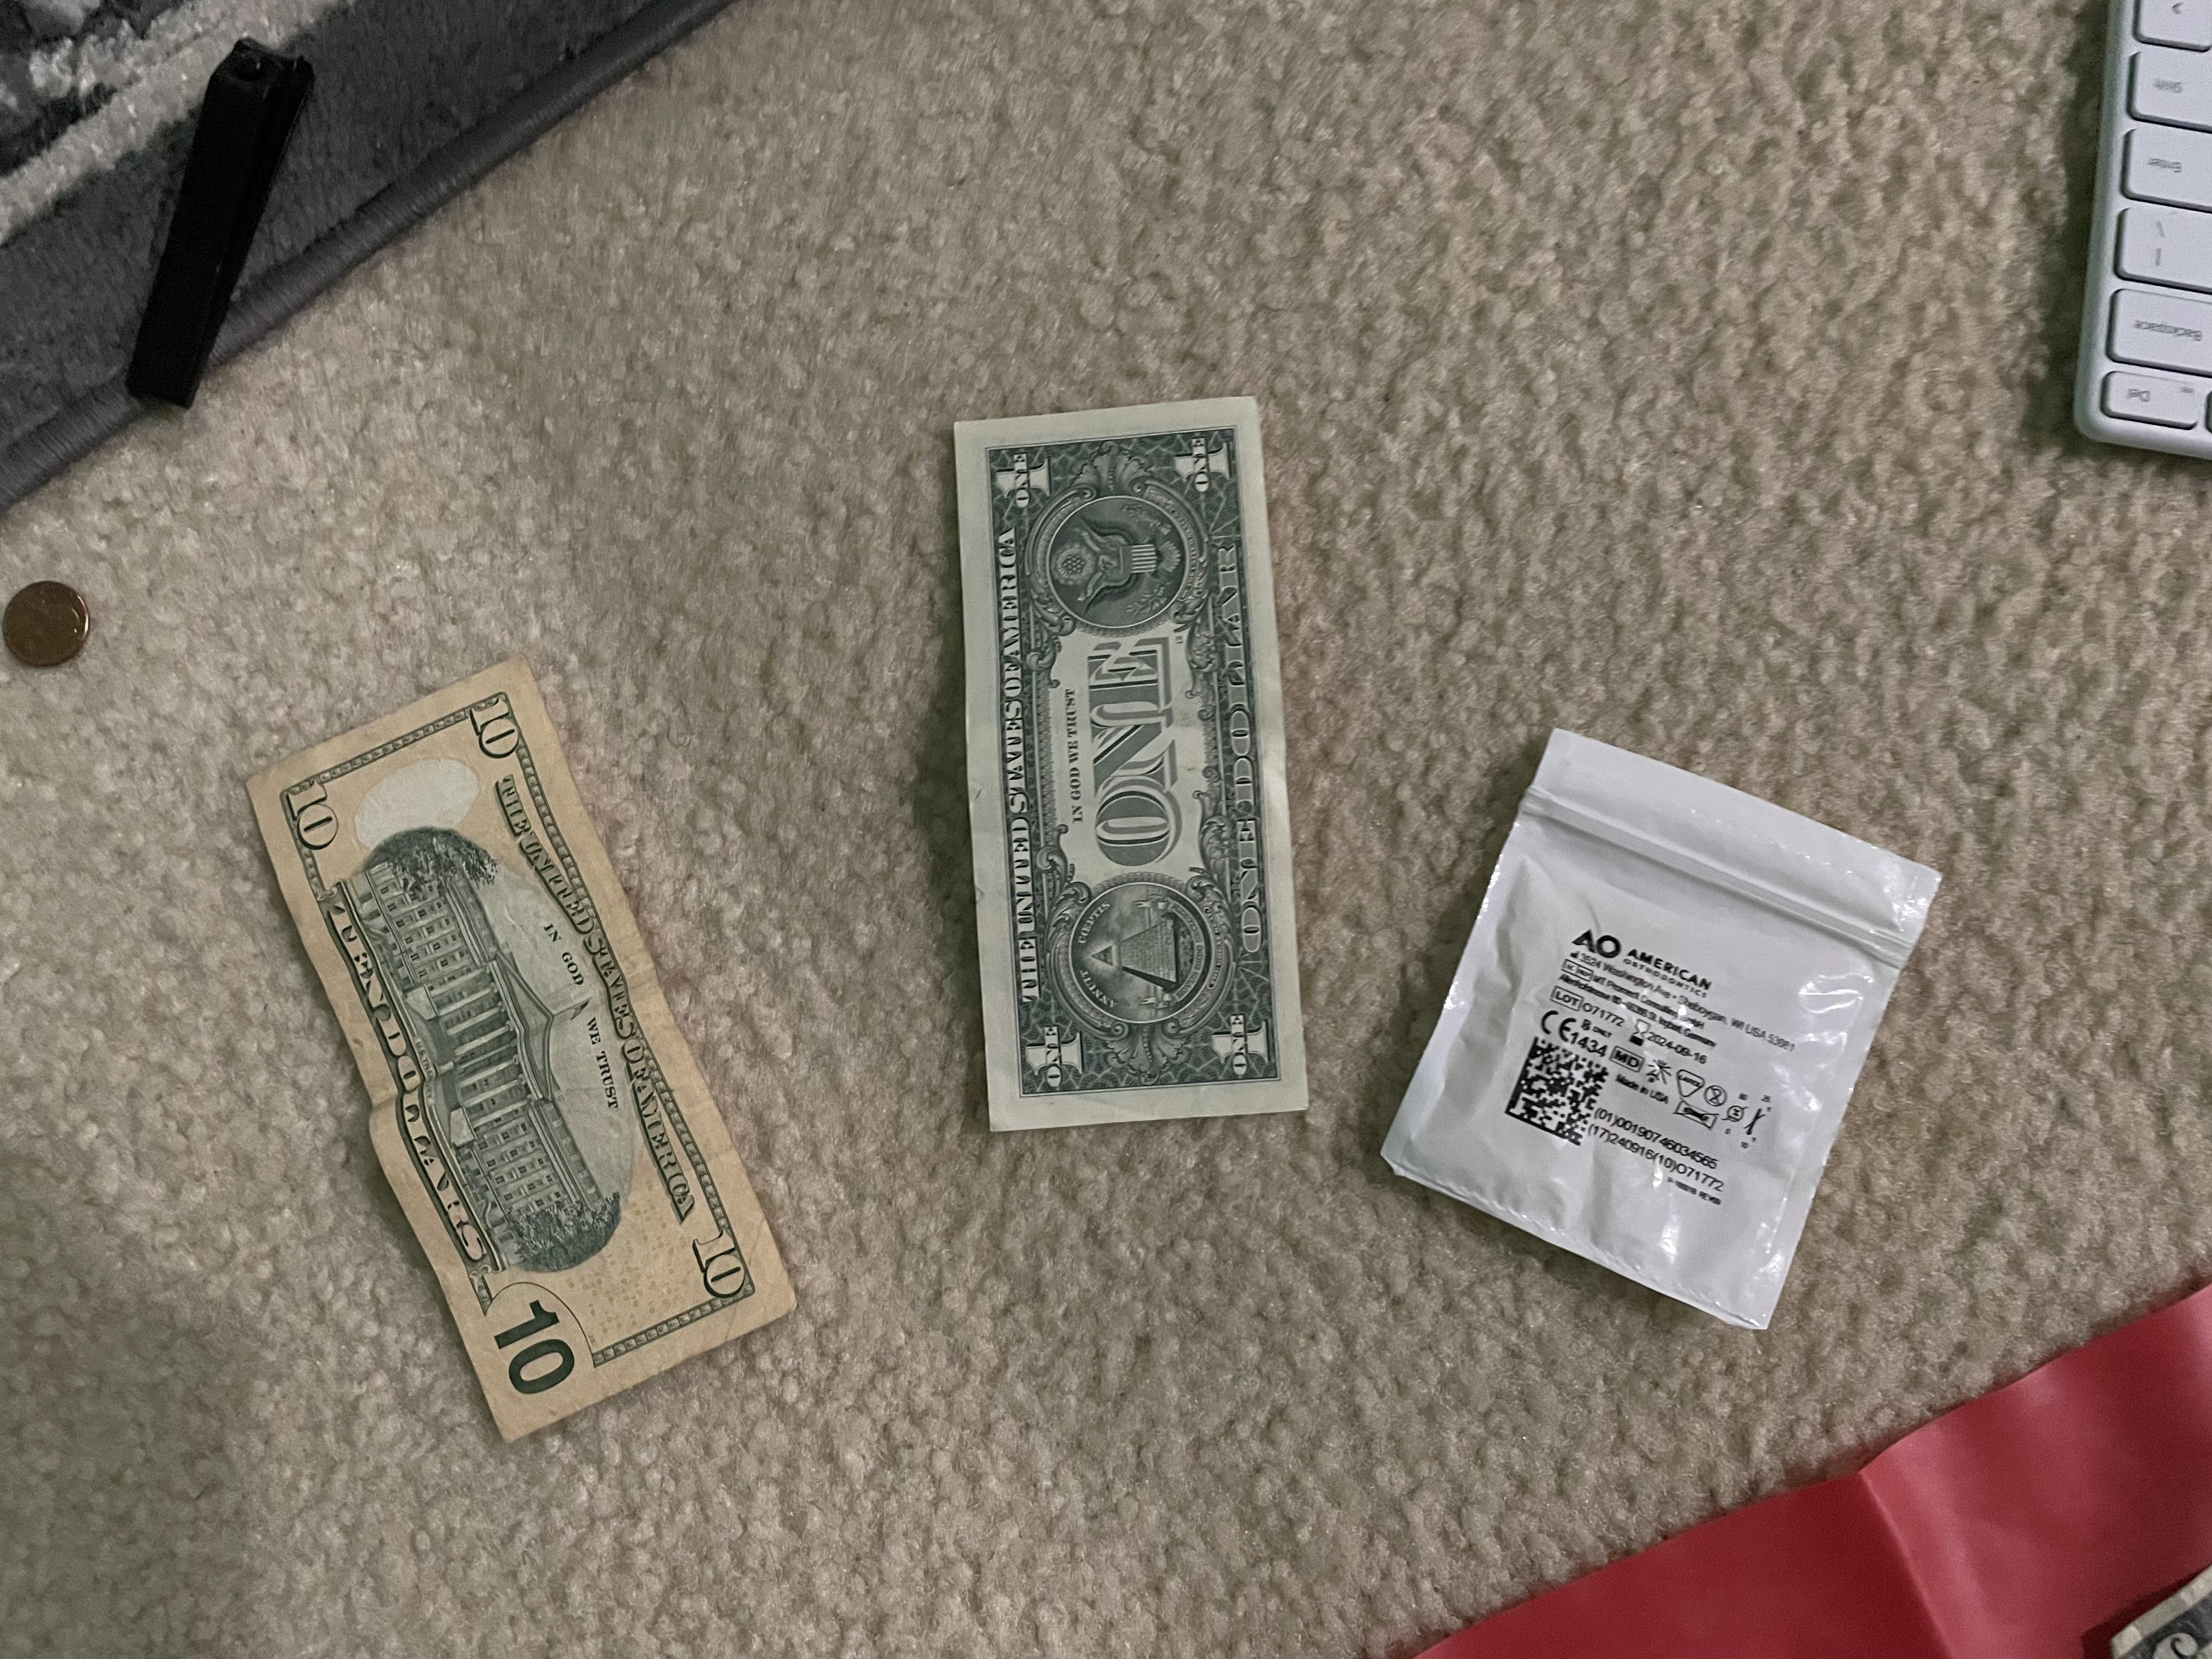OneBill: (941, 397, 1329, 1150)
Penny: (5, 559, 105, 688)
TenBill: (237, 652, 819, 1448)
